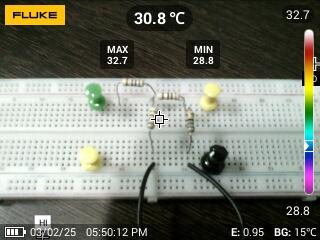resistor: (119, 77, 148, 90), (185, 109, 198, 137), (146, 105, 160, 131), (155, 90, 181, 102)
